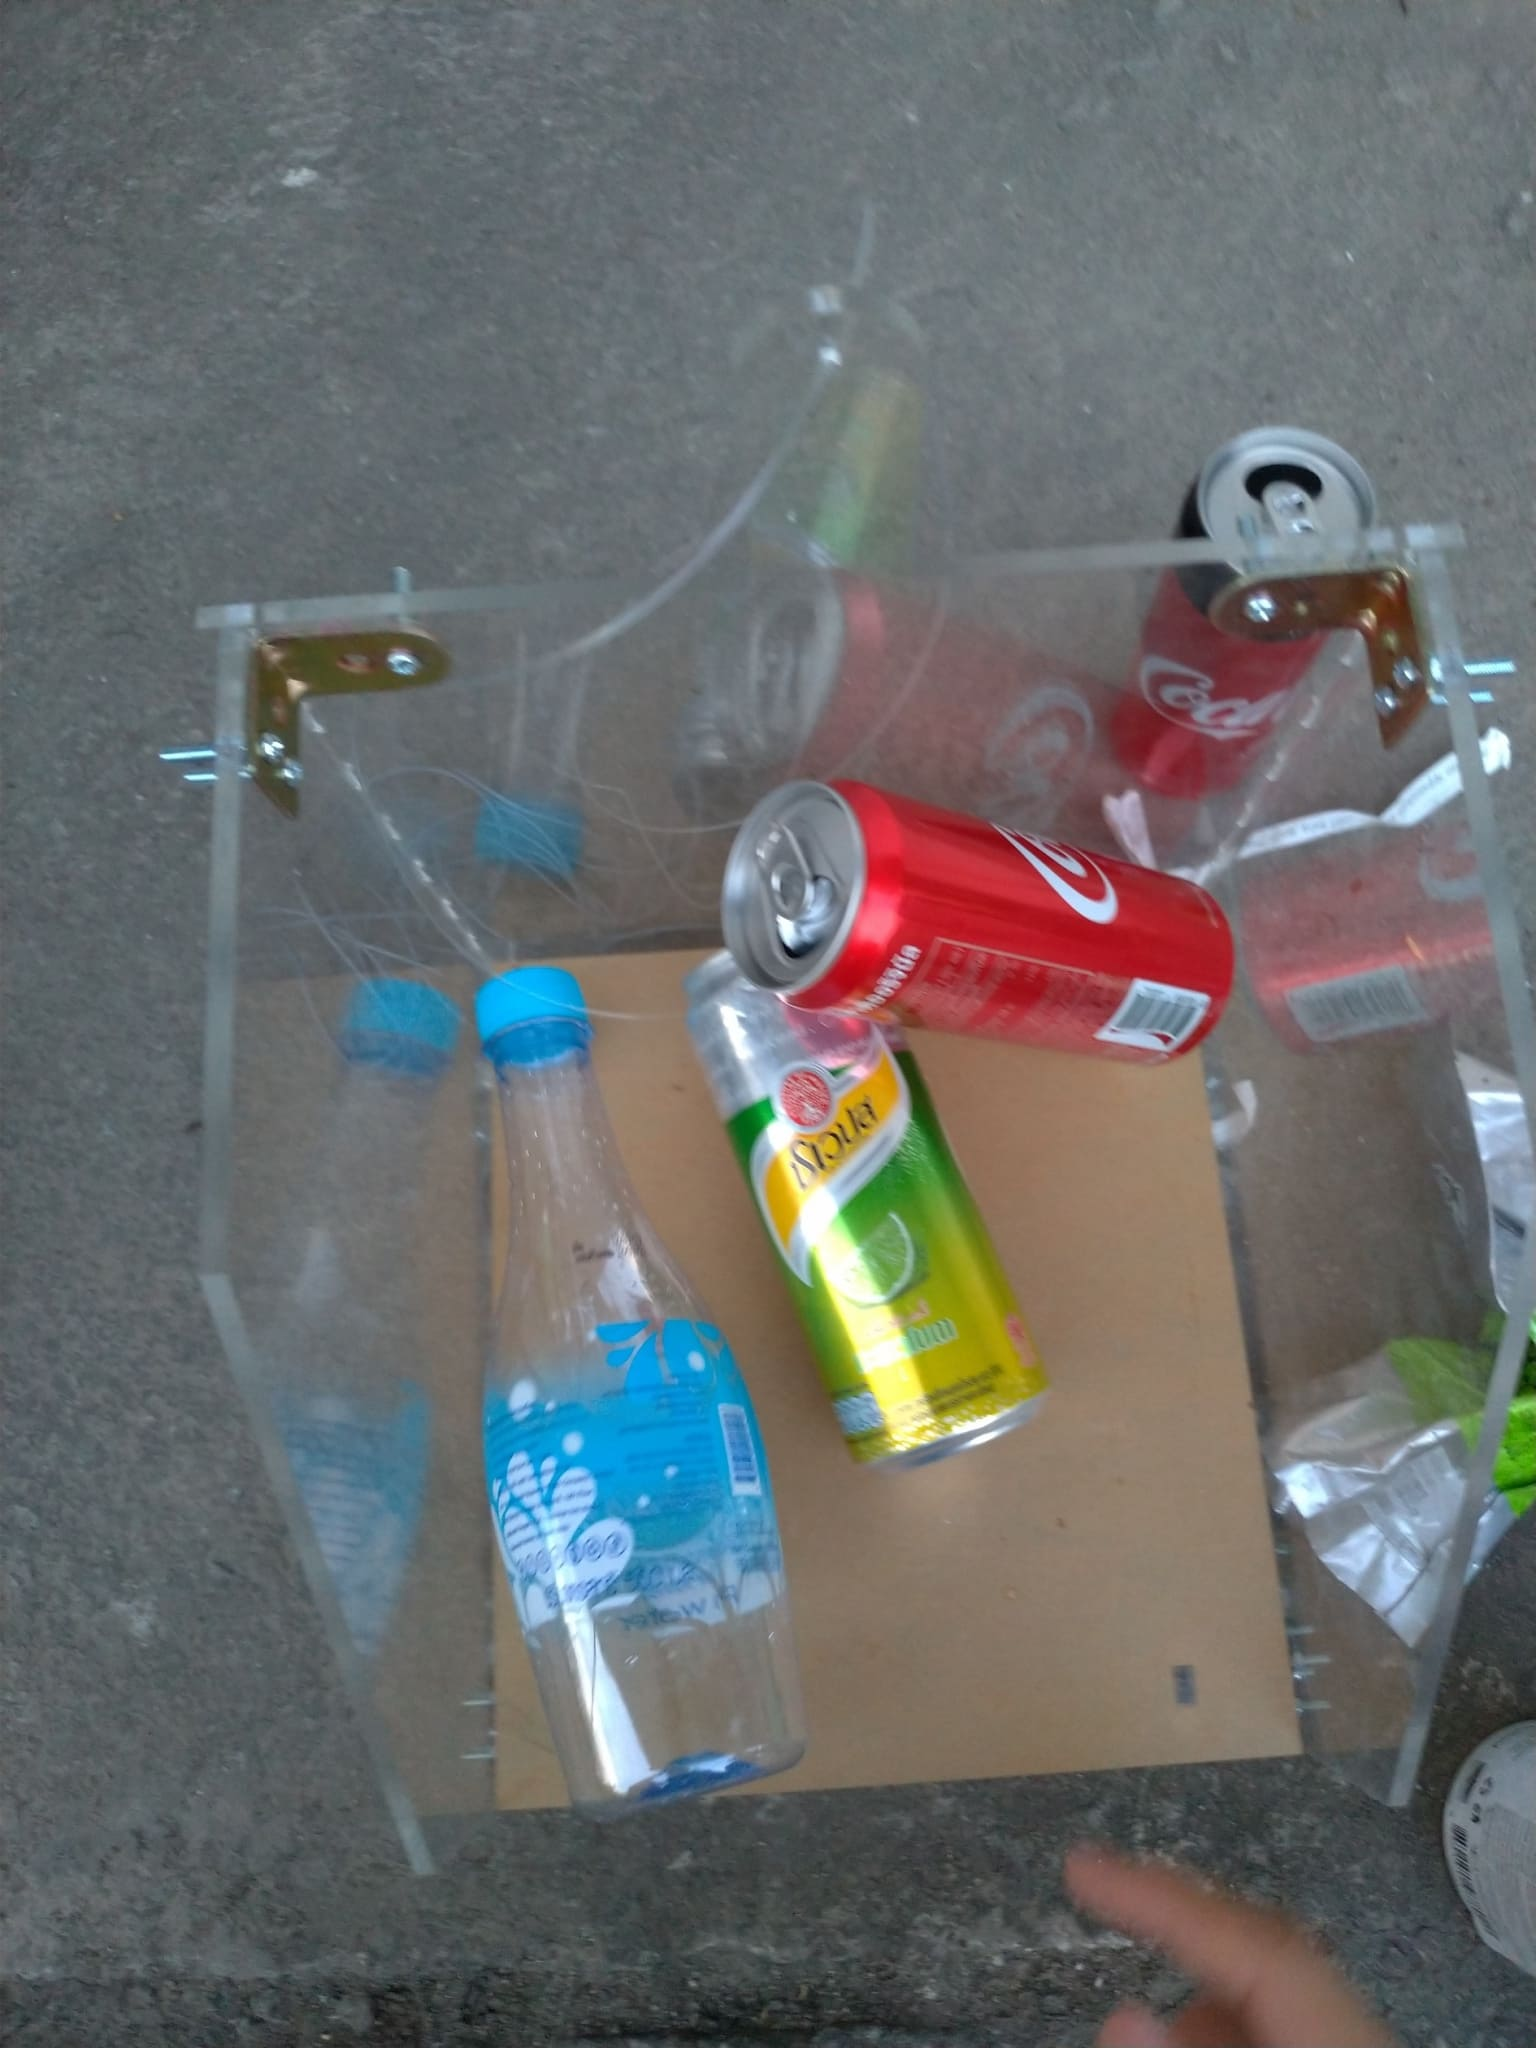AlCan: (692, 951, 1041, 1467), (721, 784, 1244, 1061), (1121, 429, 1379, 797), (1447, 1719, 1536, 1961)
Others: (1263, 1035, 1536, 1642)
PlasticBottle: (476, 968, 799, 1816)
